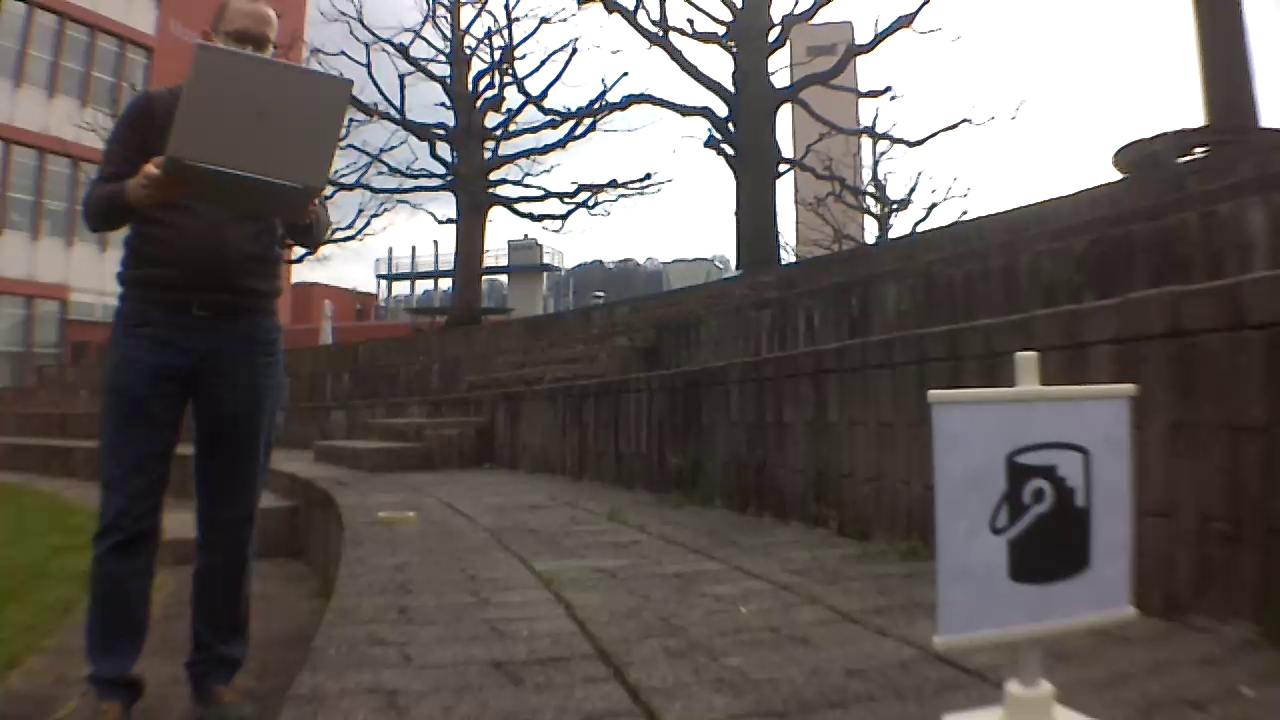bucket: (984, 433, 1105, 592)
